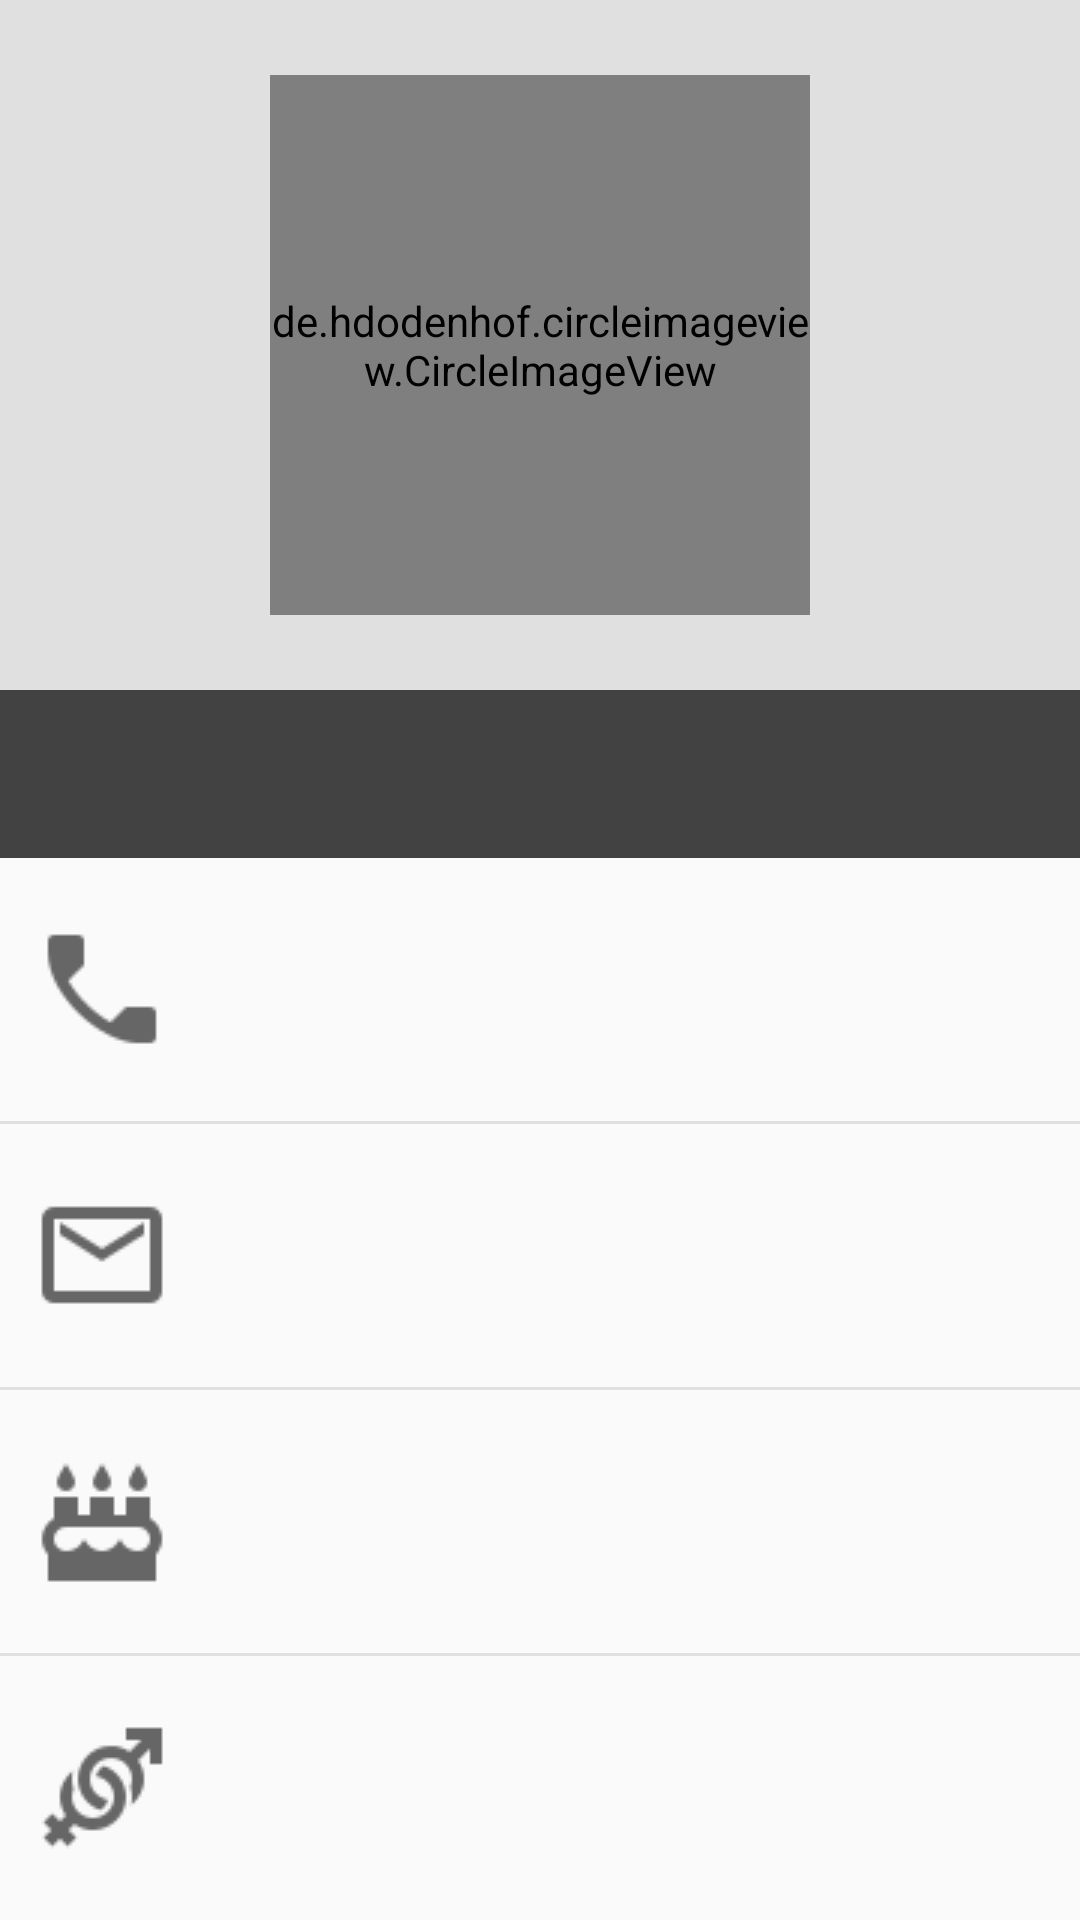

Named icons in this screenshot (1080px×1920px) and their centers, (x,y):
birthday: (102,1523)
email: (102,1255)
gender: (103,1787)
telephone: (102,989)
